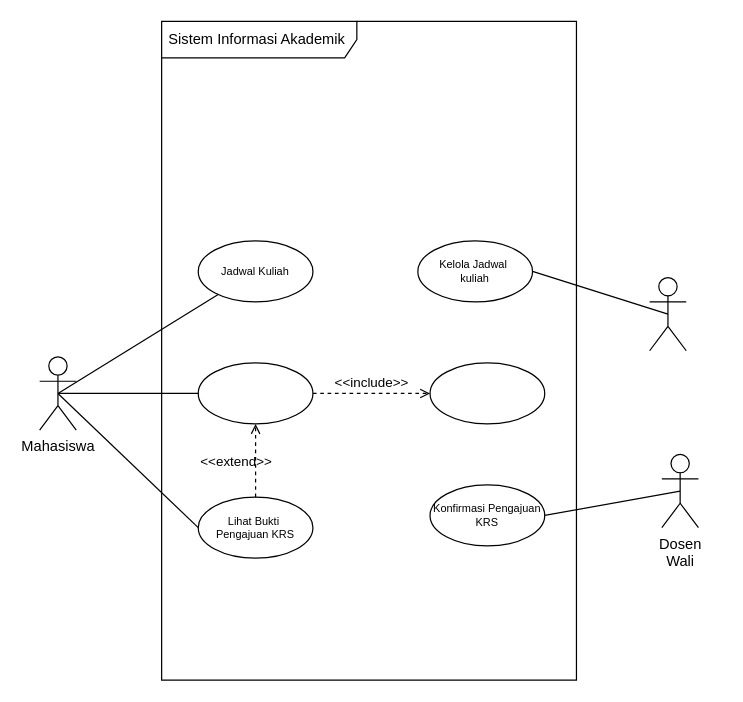
This 743x702 diagram has some shape labels left out. The shapes that lost their labels are listed below. From the top down, each one's centre as x and y in pixels, then its label:
At (x=667, y=313): "Admin akademik".
At (x=255, y=393): "Mengajukan KRS".
At (x=487, y=393): "Memvalidasi KRS".
